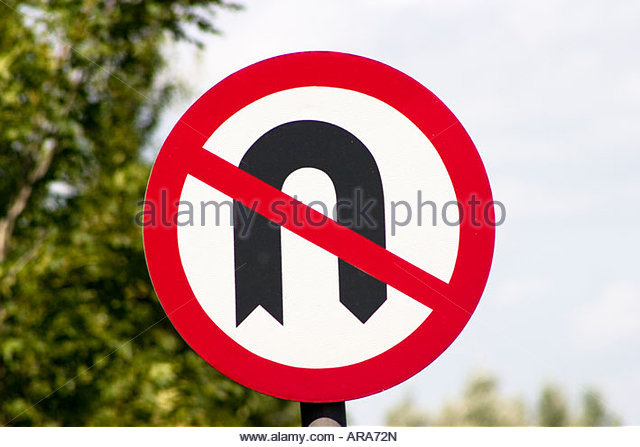No_u_turn: (143, 52, 496, 402)
